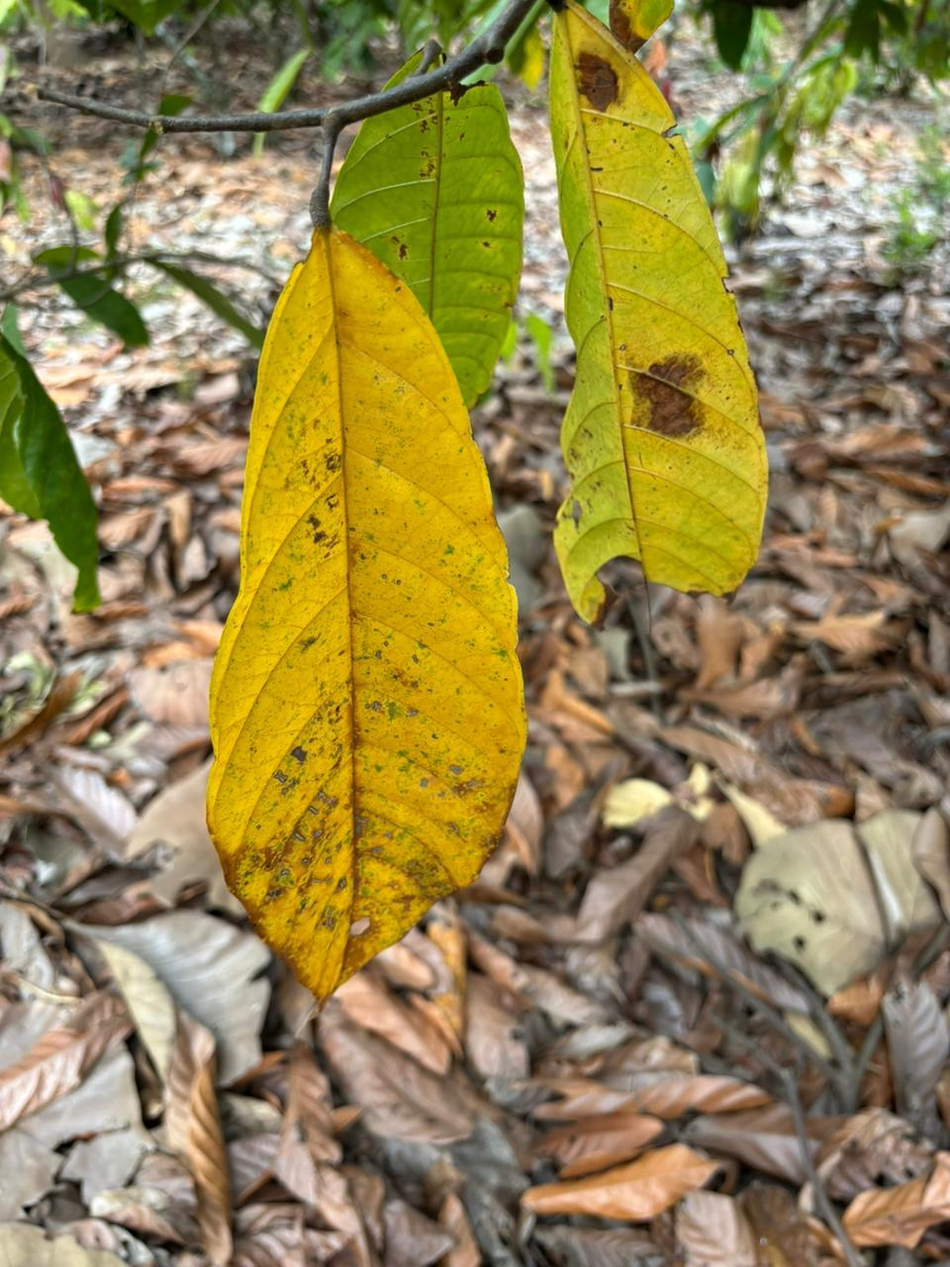deficienciia_fosforo: (207, 226, 525, 1001)
